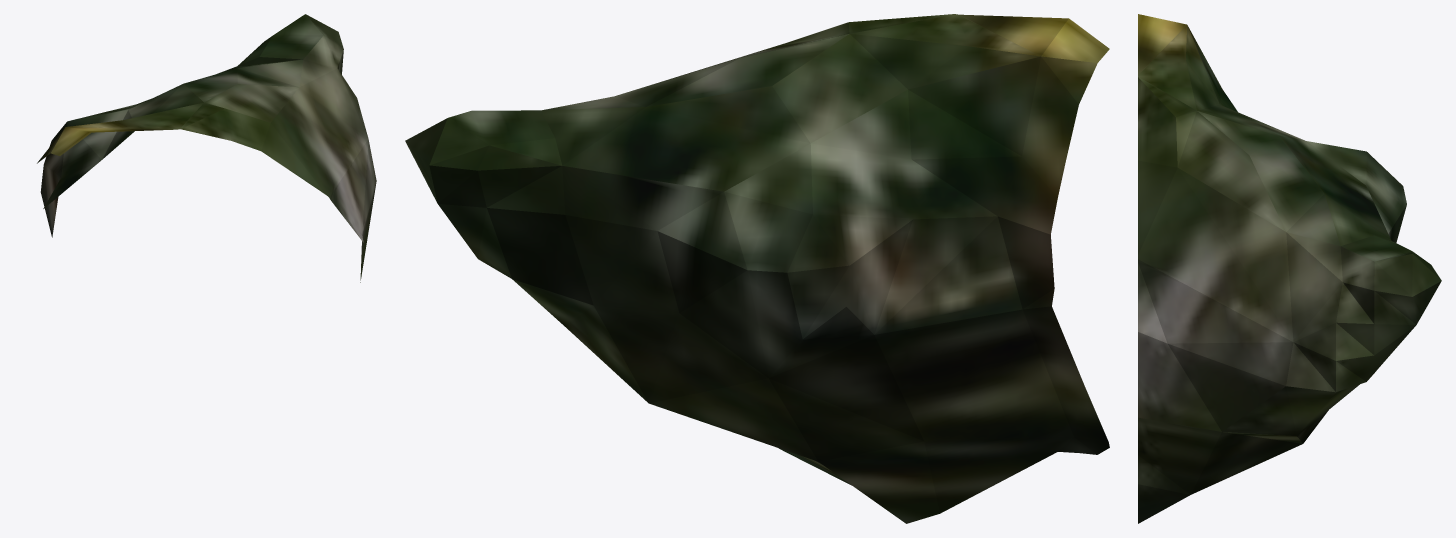
3 views of the same model, side by side, from view 1: azimuth 30°, elevation 25°; view 2: azimuth 150°, elevation 25°; view 3: azimuth 270°, elevation 25° (orthographic). The views are drawn at different scales.
Bounding box in the file's own units: 0.55 × 0.5382 × 0.3418.
1 material, 1 textured.
